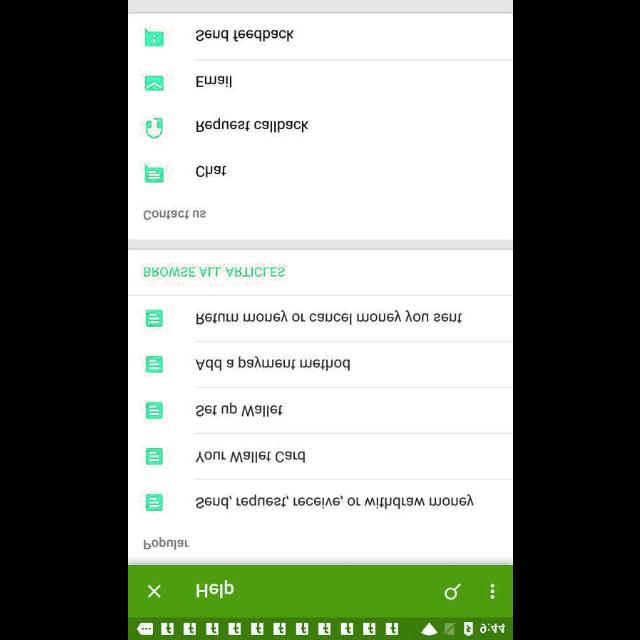icon: (144, 28, 164, 48), (144, 164, 164, 182), (144, 75, 164, 91), (444, 582, 461, 600), (146, 494, 162, 511), (146, 310, 162, 326), (146, 356, 162, 372), (146, 402, 162, 418), (146, 448, 162, 464), (147, 584, 161, 598), (490, 582, 494, 598)
image: (145, 117, 163, 139)
text: (195, 494, 473, 508), (196, 310, 462, 324), (195, 356, 349, 370), (196, 117, 308, 133), (143, 266, 284, 278), (195, 402, 282, 418), (196, 451, 304, 463), (195, 30, 293, 42), (195, 578, 232, 598), (143, 536, 189, 550), (142, 210, 205, 220), (196, 76, 232, 88), (194, 165, 226, 177)
toolbar: (128, 564, 512, 616)
uppertaskbar: (128, 617, 512, 639)
